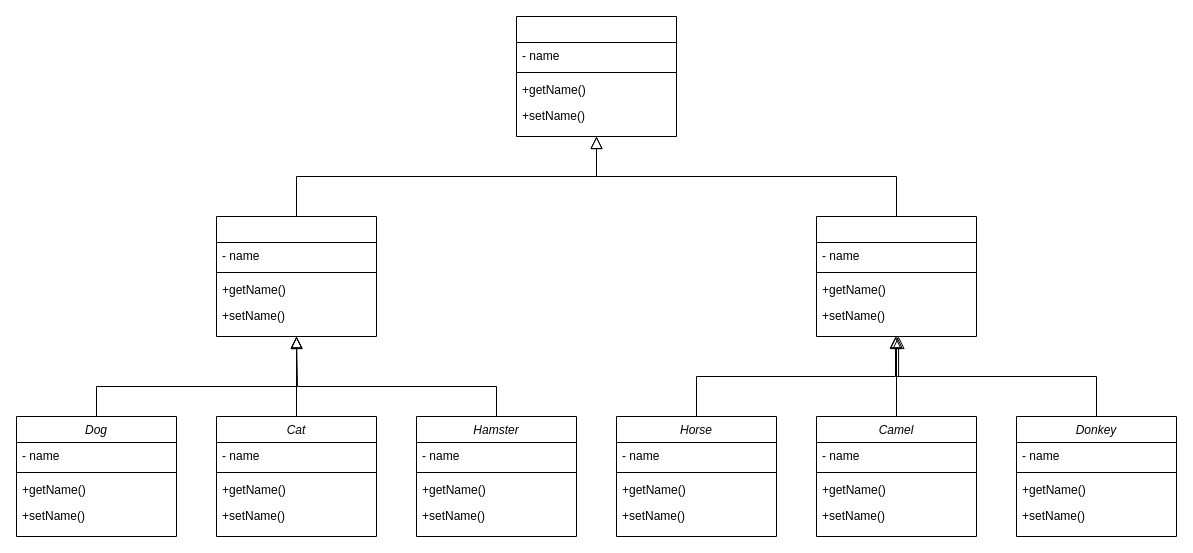
This 1193x553 diagram has some shape labels left out. Here are the shapes that lost their labels. From the top down, the box of each, then its label:
(516, 16, 676, 136): Animal
(216, 216, 376, 336): Pet
(816, 216, 976, 336): BeastOfBurgen
